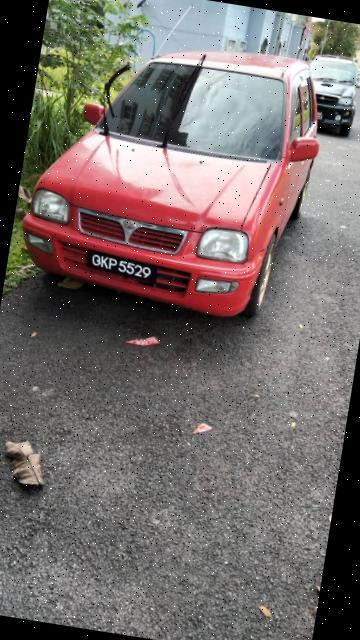License_Plate: (85, 250, 158, 285)
car: (8, 19, 344, 343)
